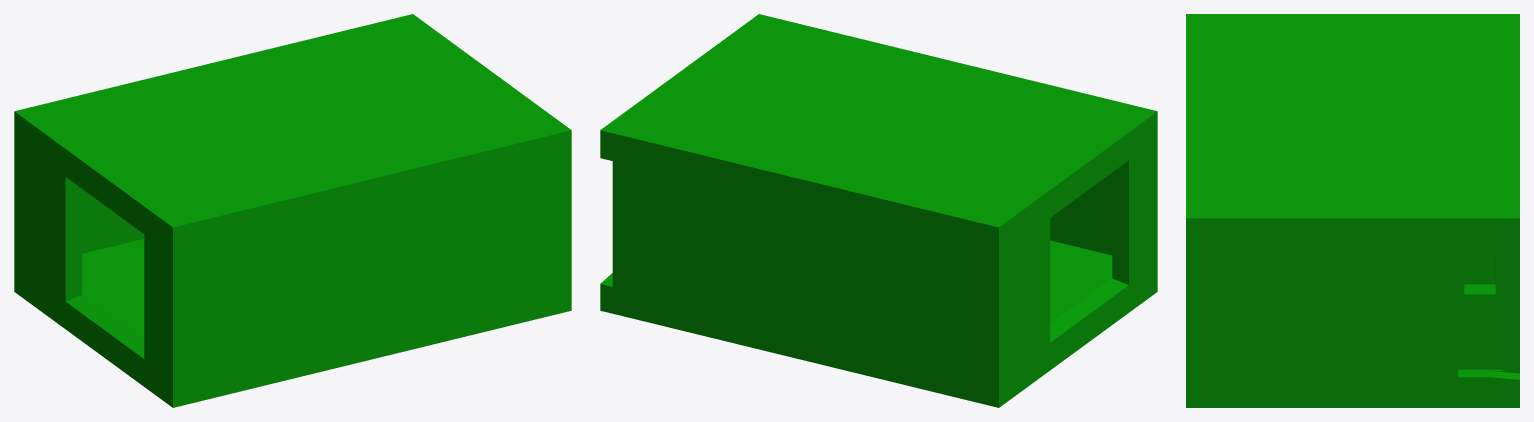
Rendered from garage_rdc.obj.
3 renders of one model, left to right at view 1: azimuth 30°, elevation 25°; view 2: azimuth 150°, elevation 25°; view 3: azimuth 270°, elevation 25°, orthographic. The views are drawn at different scales.
Visible parts, largest first — view 1: Garage_RDC_Cube.038; view 2: Garage_RDC_Cube.038; view 3: Garage_RDC_Cube.038.
Part boxes in pixels (left/top/right/bottom): Garage_RDC_Cube.038: left=14, top=14, right=571, bottom=407; Garage_RDC_Cube.038: left=600, top=14, right=1157, bottom=407; Garage_RDC_Cube.038: left=1186, top=14, right=1519, bottom=407.
Bounding box in the file's own units: 7.17 × 3.1 × 4.95.
